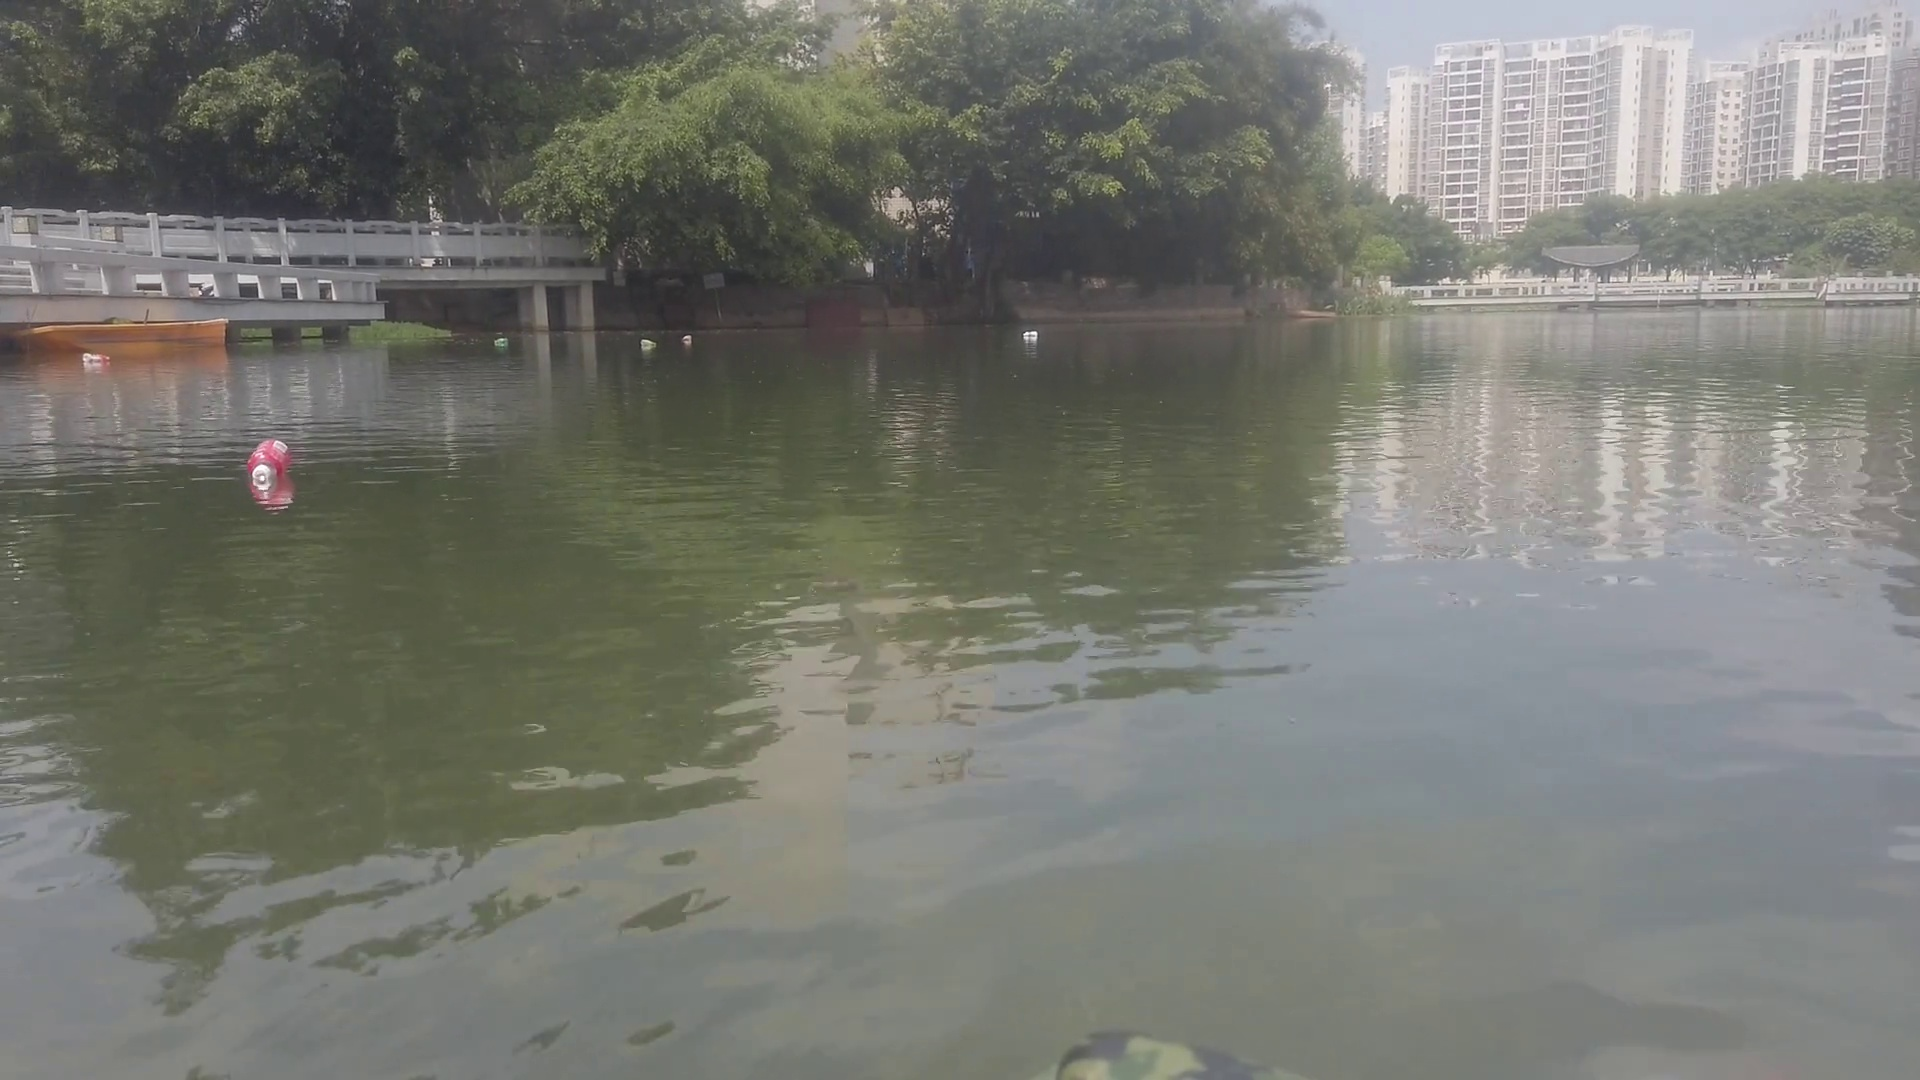bottle: (241, 435, 301, 488), (78, 348, 113, 364), (1017, 326, 1038, 340), (637, 334, 659, 345), (492, 334, 510, 347), (679, 328, 690, 343)
